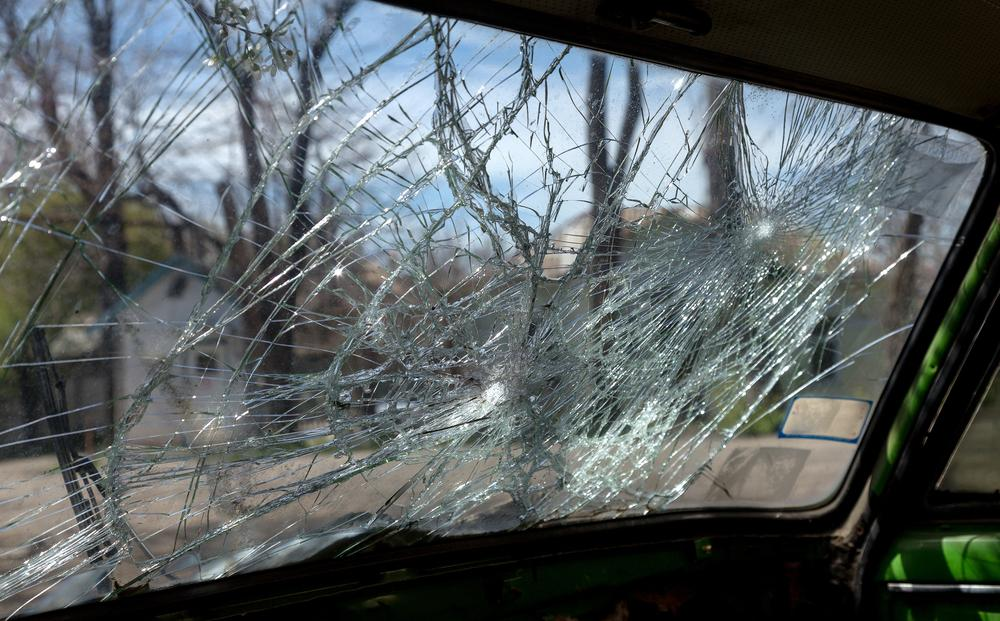glass shatter: (0, 0, 987, 621)
